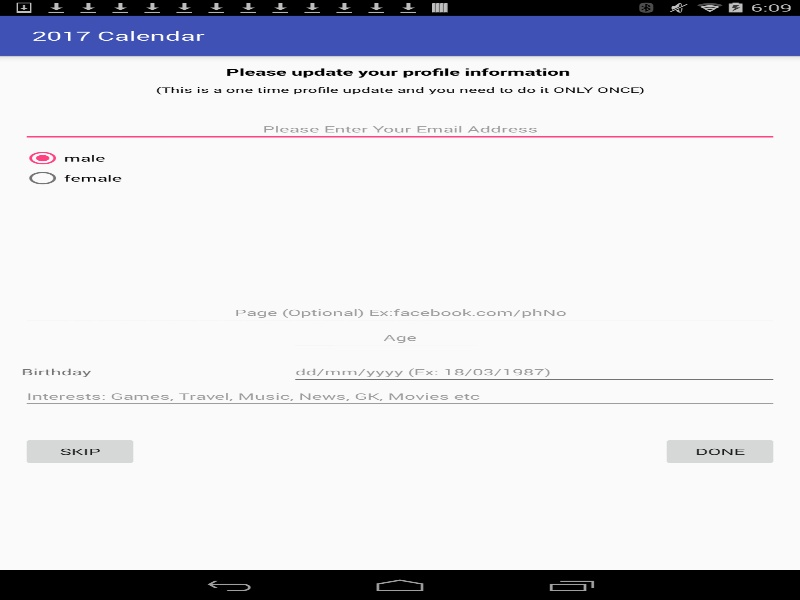Button: (21, 436, 138, 466), (661, 436, 778, 466)
Input: (21, 116, 778, 141), (21, 300, 778, 325), (21, 384, 778, 409), (290, 359, 778, 384), (290, 325, 509, 350)
